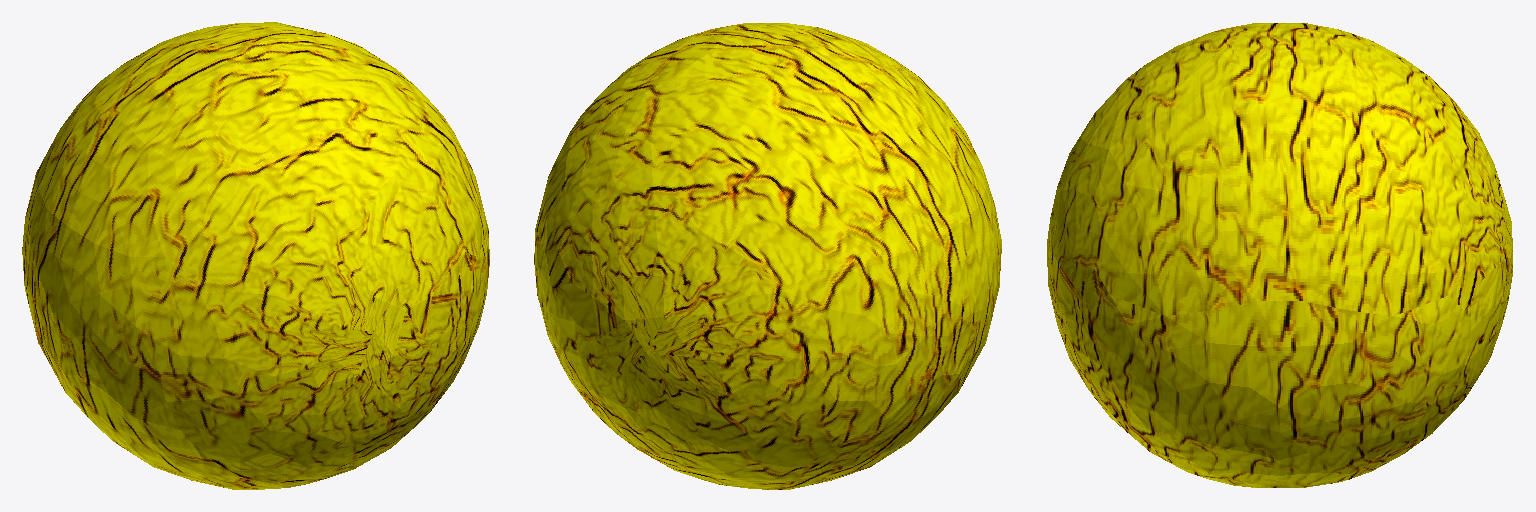
3 views of the same model, side by side, from view 1: azimuth 30°, elevation 25°; view 2: azimuth 150°, elevation 25°; view 3: azimuth 270°, elevation 25° (orthographic).
Visible parts, largest first — view 1: Mesh_planet; view 2: Mesh_planet; view 3: Mesh_planet.
Boxes of the visible parts, x1,y1,x2,y2 form: Mesh_planet: [22, 22, 489, 489]; Mesh_planet: [534, 23, 1001, 489]; Mesh_planet: [1047, 23, 1512, 487].
Size of the model in its own units: 5.24 by 5.24 by 5.22.
1 materials, 1 textured.